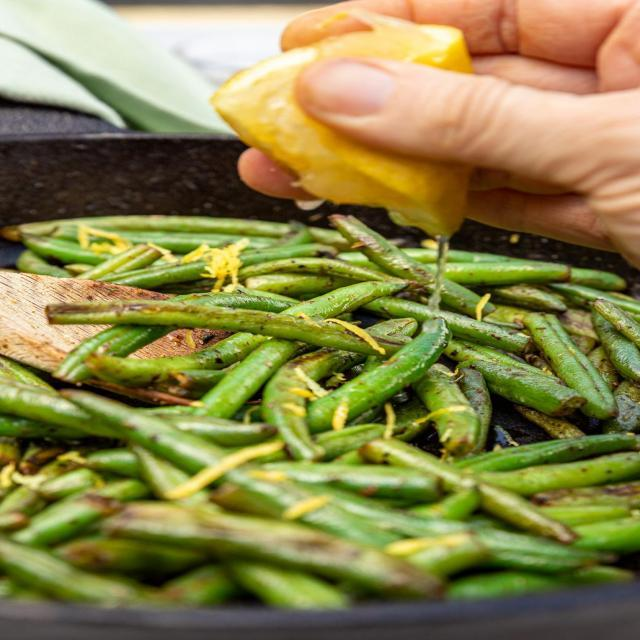Beans: (0, 197, 639, 613)
